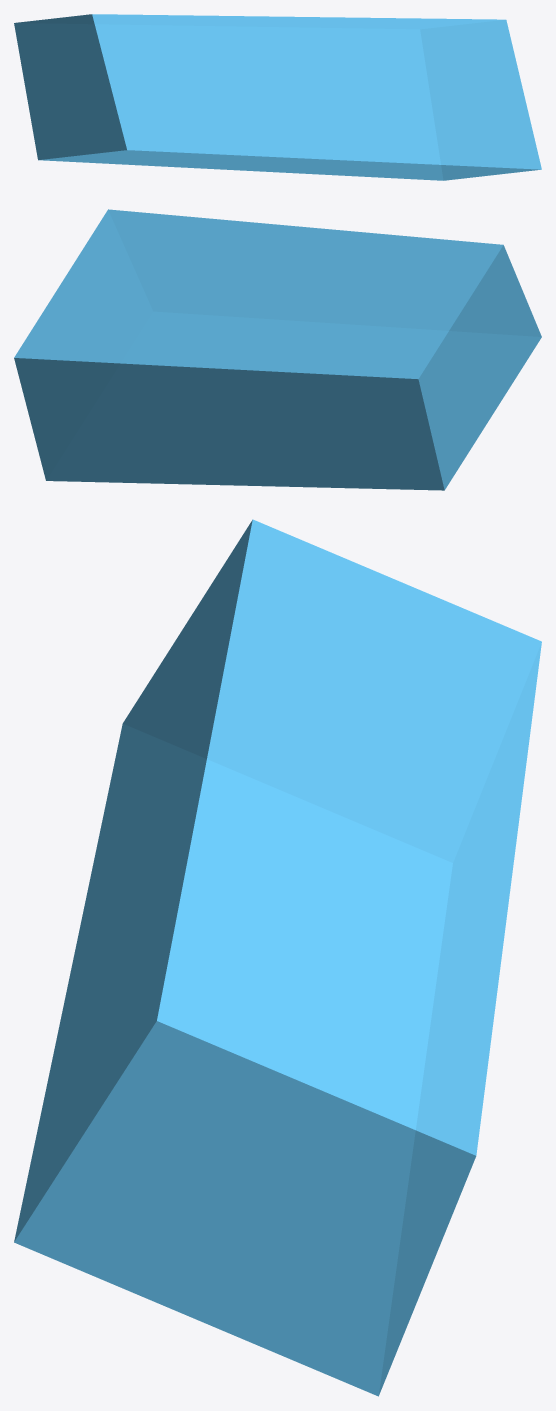
File: Event_420094457_HErechit_71.fbx
3 renders of one model, top to bottom at view 1: azimuth 30°, elevation 25°; view 2: azimuth 150°, elevation 25°; view 3: azimuth 270°, elevation 25°, orthographic. The views are drawn at different scales.
Visible parts, largest first — view 1: Model; view 2: Model; view 3: Model.
Boxes of the visible parts, box(x1,y1,x2,y2) form: Model: box(14, 14, 541, 180); Model: box(14, 209, 541, 490); Model: box(14, 519, 541, 1396).
Bounding box in the file's own units: 1.16 × 0.8154 × 0.7377.
